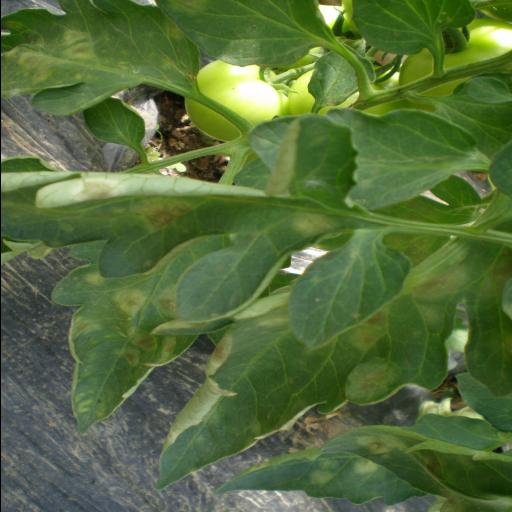disease_tomato: (156, 220, 492, 483), (0, 163, 349, 322), (48, 240, 200, 428), (216, 418, 512, 510), (0, 1, 208, 115)
